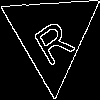R: (26, 10, 76, 68)
